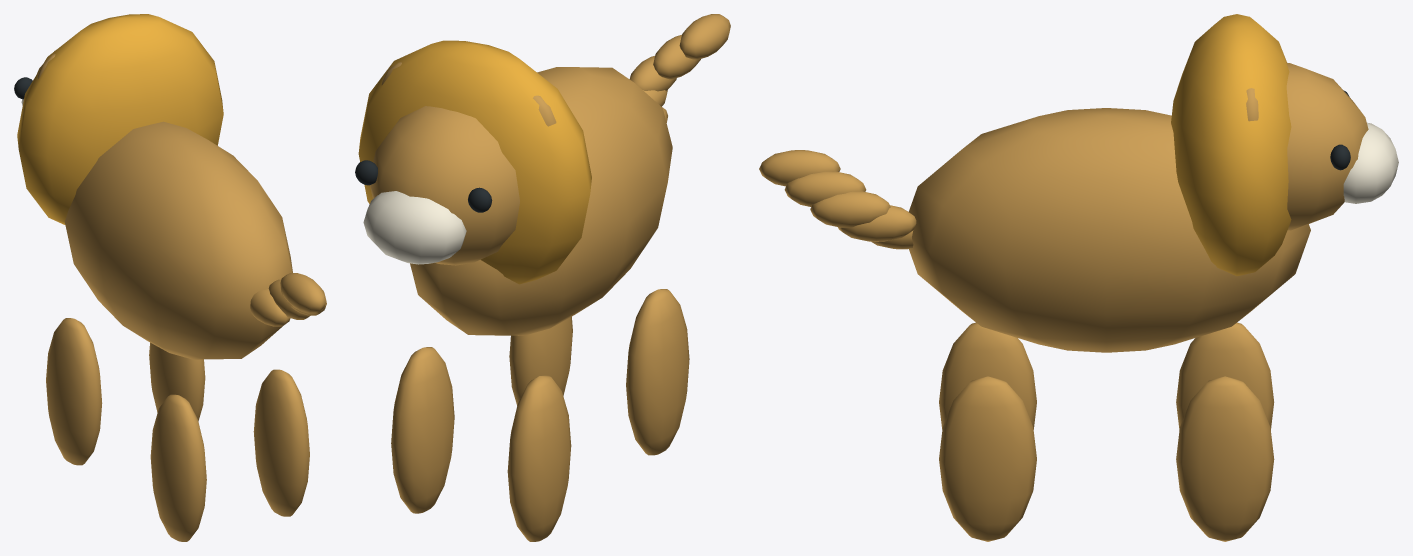
File: animal_lion.glb
3 views of the same model, side by side, from view 1: azimuth 30°, elevation 25°; view 2: azimuth 150°, elevation 25°; view 3: azimuth 270°, elevation 25° (orthographic). The views are drawn at different scales.
Visible parts, largest first — view 1: Body, LegBL, LegFL, LegBR, LegFR; view 2: Body, LegFR, LegBL, LegFL, LegBR; view 3: Body, LegFR, LegBR, LegBL, LegFL.
Boxes of the visible parts, box(x1,y1,x2,y2) form: Body: box(14, 14, 326, 359); LegBL: box(150, 394, 206, 541); LegFL: box(46, 318, 102, 465); LegBR: box(253, 369, 309, 516); LegFR: box(149, 342, 205, 421); Body: box(355, 14, 730, 335); LegFR: box(391, 347, 454, 513); LegBL: box(626, 289, 689, 455); LegFL: box(507, 375, 571, 541); LegBR: box(509, 316, 572, 405); Body: box(759, 14, 1398, 352); LegFR: box(1176, 376, 1274, 541); LegBR: box(939, 376, 1036, 541); LegBL: box(939, 322, 1036, 429); LegFL: box(1176, 322, 1274, 429).
Size of the model in its own units: 1.04 by 2.1 by 2.5.
